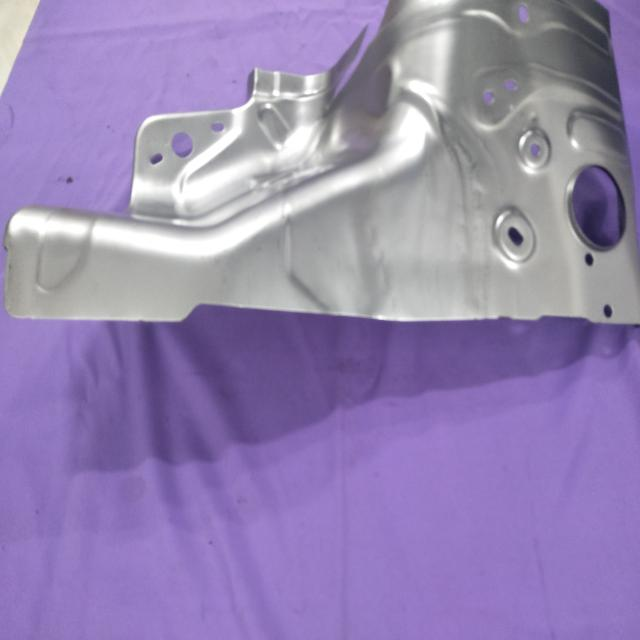Defect: (289, 1, 394, 109)
